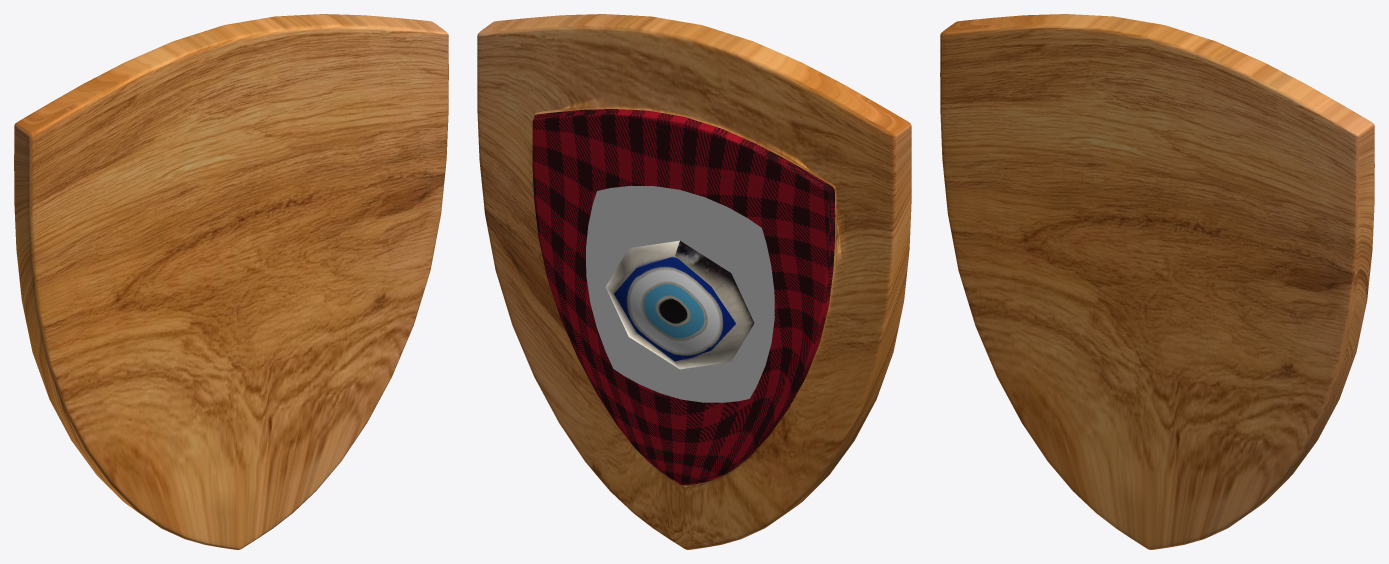
Rendered from Crest.fbx.
The picture shows the model from 3 angles, left to right: view 1: azimuth 30°, elevation 25°; view 2: azimuth 150°, elevation 25°; view 3: azimuth 330°, elevation 25°; orthographic projection.
Visible parts, largest first — view 1: Plane; view 2: Plane, Cylinder; view 3: Plane.
Boxes of the visible parts, x1,y1,x2,y2 form: Plane: (14,14,448,549); Plane: (477,14,911,549); Cylinder: (605,240,754,369); Plane: (940,14,1374,549).
Bounding box in the file's own units: 259 × 303 × 34.35.
Materials: 4 (3 with a texture image).
